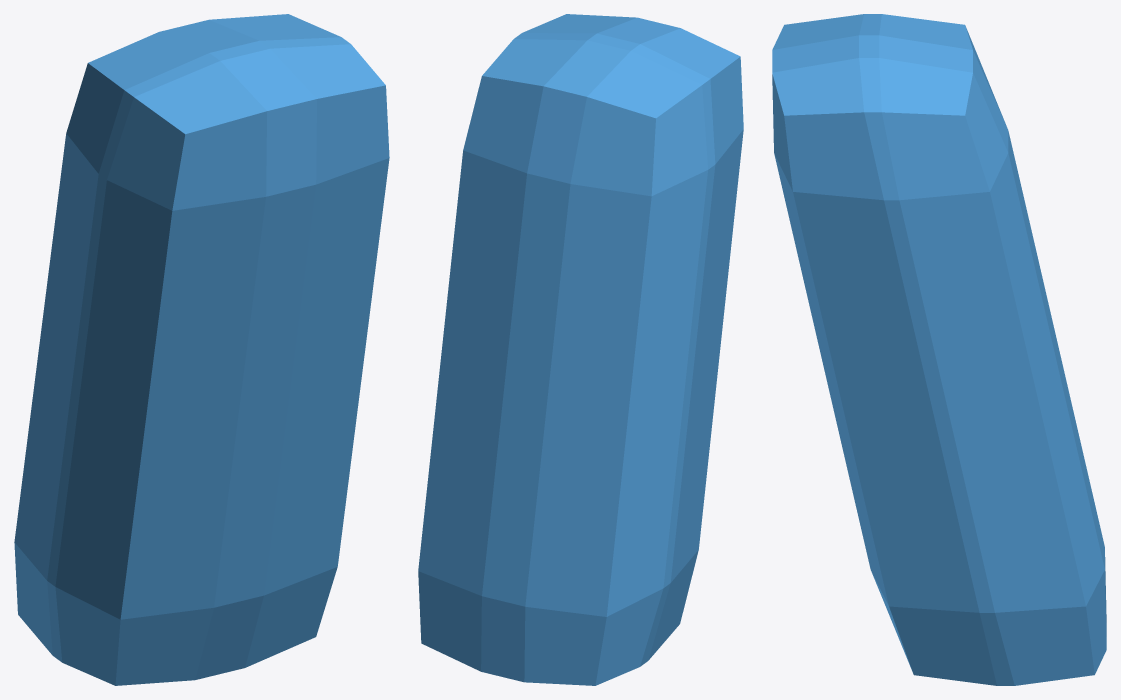
File: left_shoulder__shoulder_fin__winged.glb
3 views of the same model, side by side, from view 1: azimuth 30°, elevation 25°; view 2: azimuth 150°, elevation 25°; view 3: azimuth 270°, elevation 25° (orthographic). The views are drawn at different scales.
Parts seen in each view (by area): view 1: armor_topping_left_shoulder_shoulder_fin_winged_v001_v001; view 2: armor_topping_left_shoulder_shoulder_fin_winged_v001_v001; view 3: armor_topping_left_shoulder_shoulder_fin_winged_v001_v001.
Part boxes in pixels (bbox=[...]): armor_topping_left_shoulder_shoulder_fin_winged_v001_v001: bbox=[14, 14, 389, 685]; armor_topping_left_shoulder_shoulder_fin_winged_v001_v001: bbox=[418, 14, 743, 685]; armor_topping_left_shoulder_shoulder_fin_winged_v001_v001: bbox=[772, 14, 1106, 685].
Bounding box in the file's own units: 0.02 × 0.05 × 0.025.
